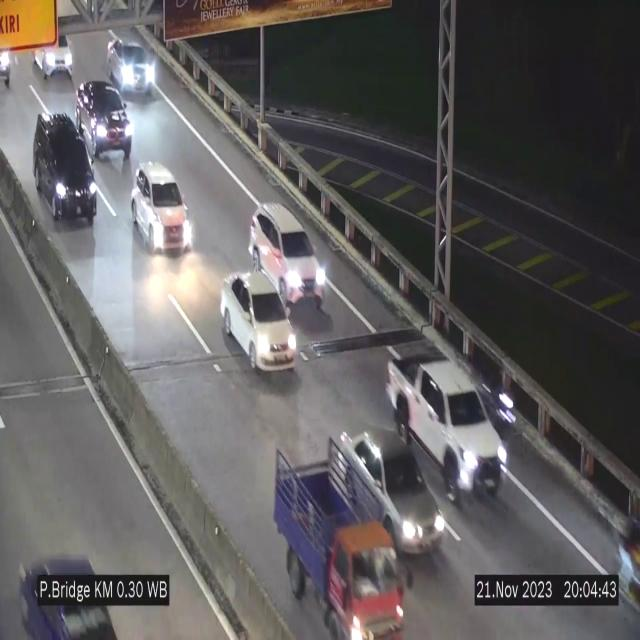Car: (386, 346, 507, 506), (342, 427, 445, 552), (18, 534, 120, 640), (248, 204, 326, 308), (221, 272, 297, 370), (34, 113, 98, 229), (132, 162, 193, 252), (76, 82, 133, 162), (108, 38, 158, 95), (38, 23, 72, 79)
Motorcycle: (486, 361, 516, 451)
Truck: (275, 446, 407, 640)
